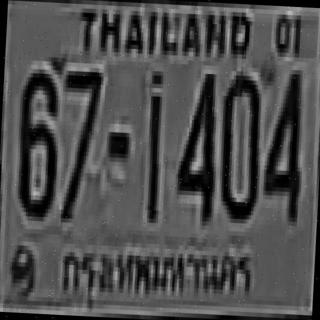N00: (217, 70, 262, 220)
N01: (144, 92, 161, 218)
N04: (174, 68, 219, 217), (261, 65, 304, 218)
N06: (15, 64, 60, 218)
N07: (56, 66, 102, 220)
P04: (53, 235, 258, 312)
